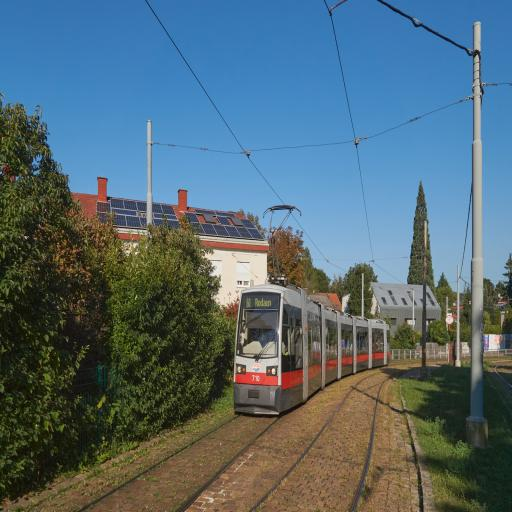ULF: (232, 278, 390, 420)
